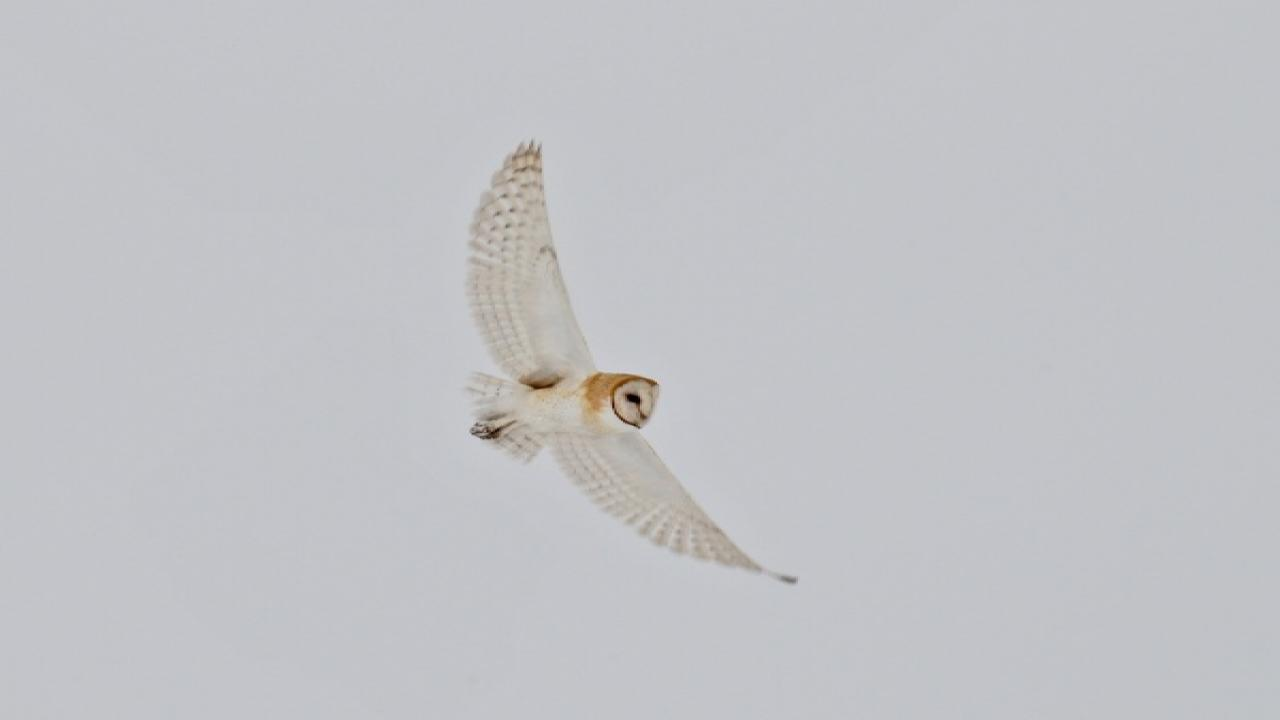Bird: (452, 134, 822, 596)
